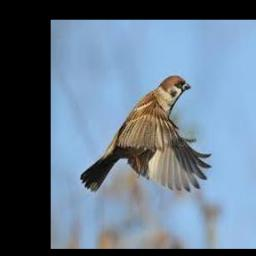Sparrow: (81, 75, 212, 193)
